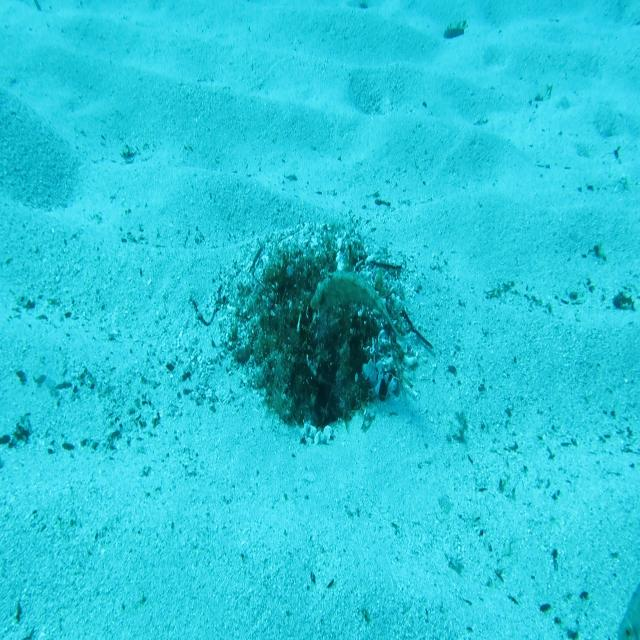BK_SW: (309, 267, 407, 351)
core_nest: (289, 271, 337, 316)
female: (617, 583, 640, 640)
nest: (217, 212, 430, 453)
vegetation: (442, 18, 468, 43)
